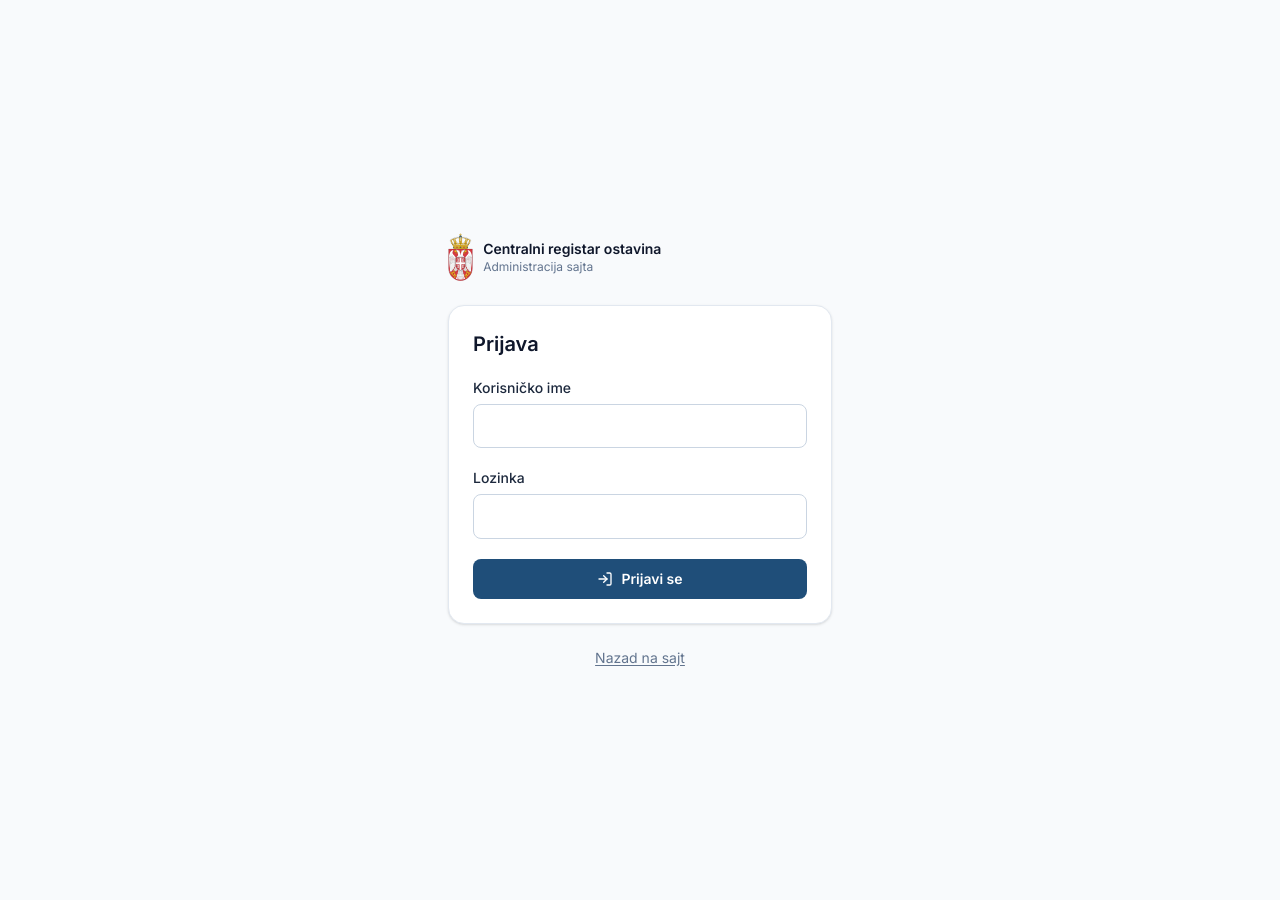
Test case: administracija › odustajanje od brisanja ne briše upit
In the field labelled "Korisničko ime": (640, 426) left=473, top=404, right=807, bottom=448, type "admin"
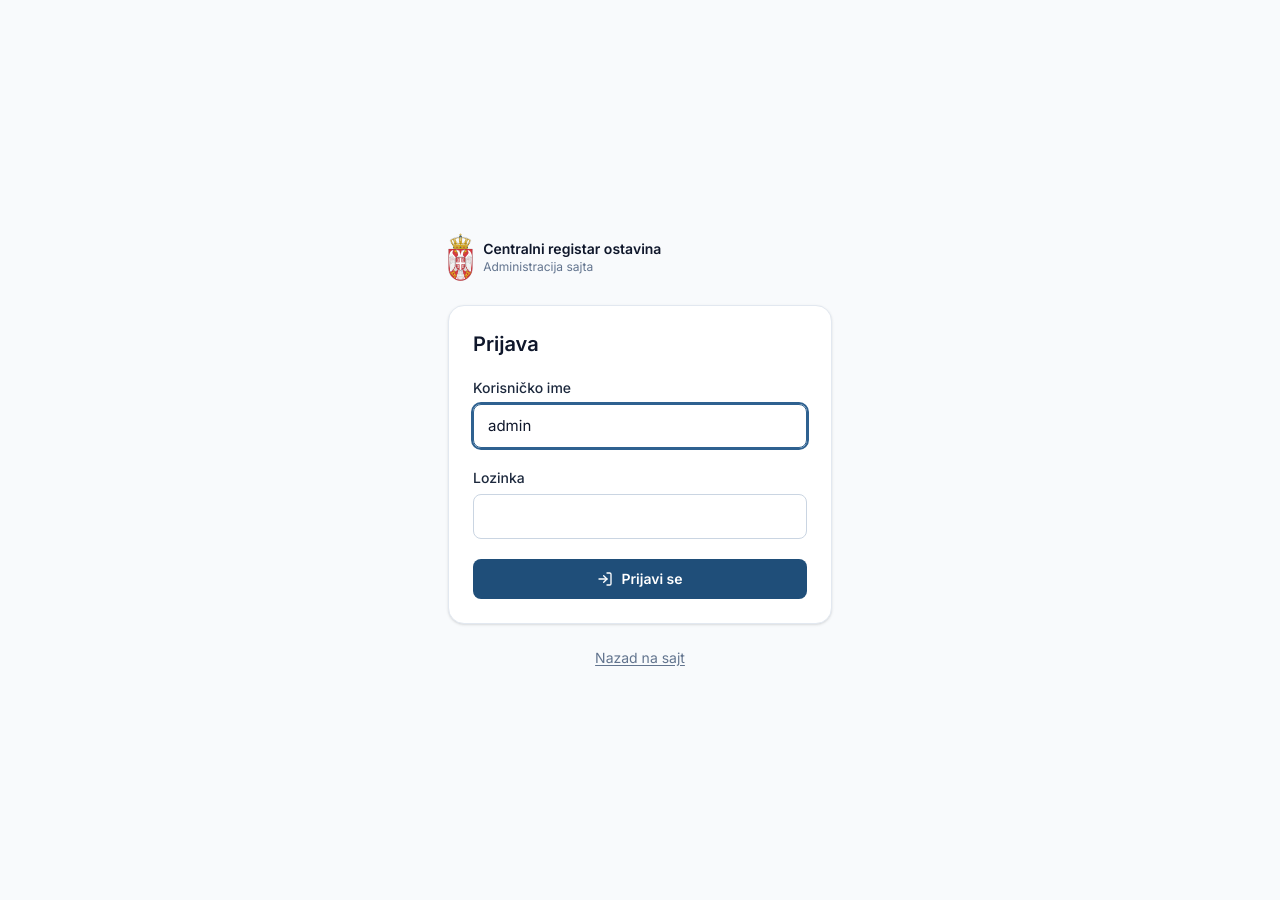
In the password field labelled "Lozinka": (640, 516) left=473, top=494, right=807, bottom=538, type "tacna-lozinka"
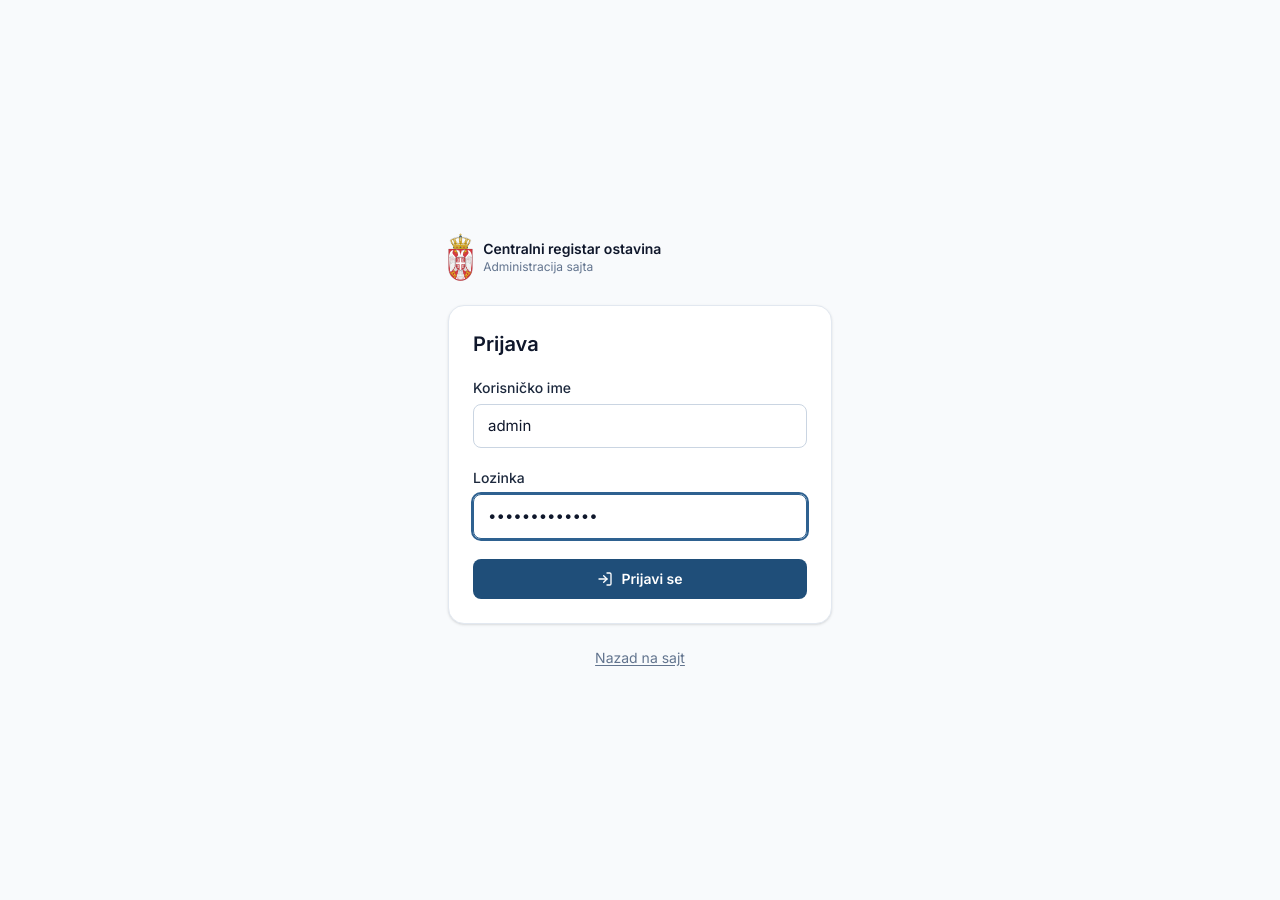
Click the button "Prijavi se": (640, 578) left=473, top=558, right=807, bottom=598
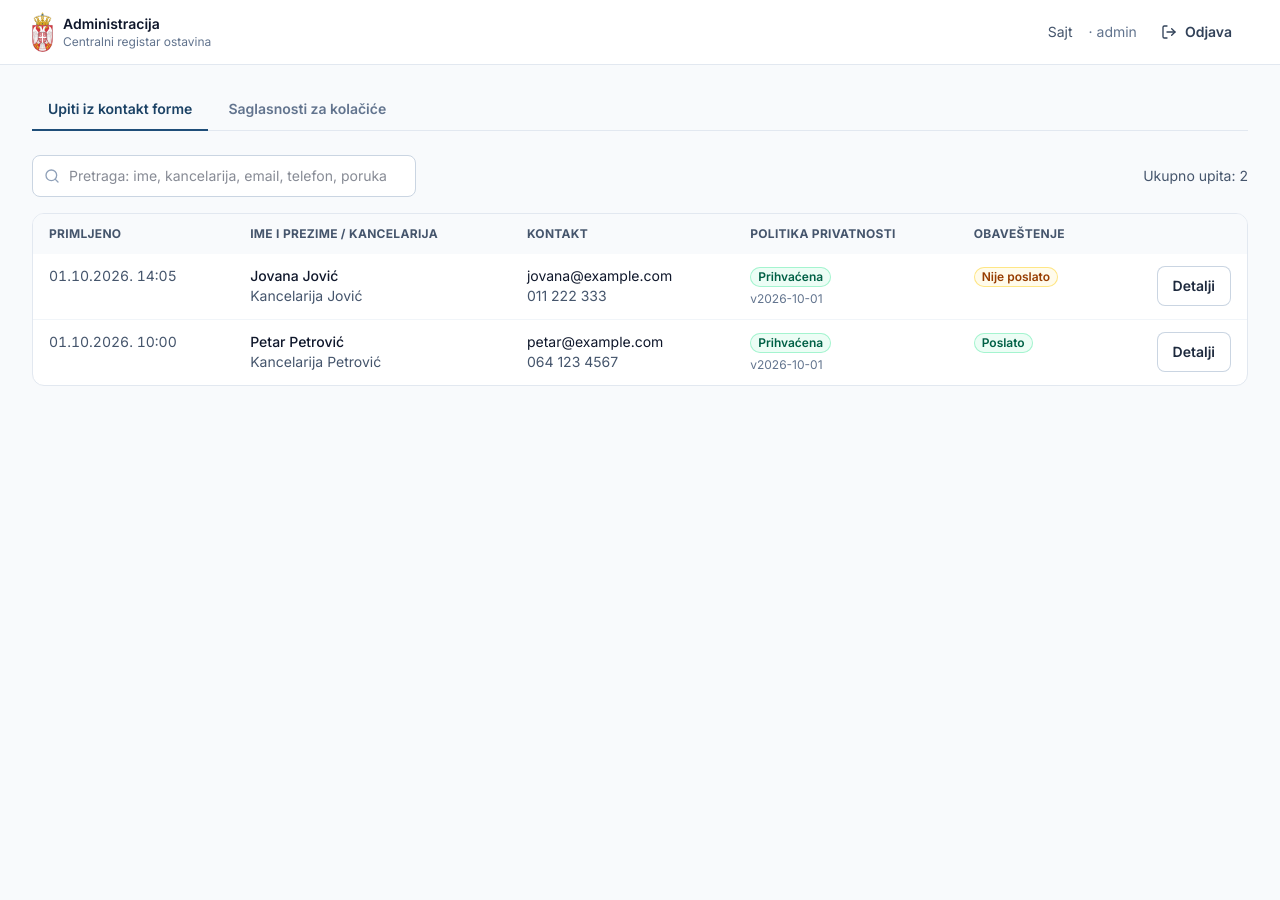
Click the button with aria-label "Detalji upita #1": (1194, 352) left=1157, top=332, right=1231, bottom=372
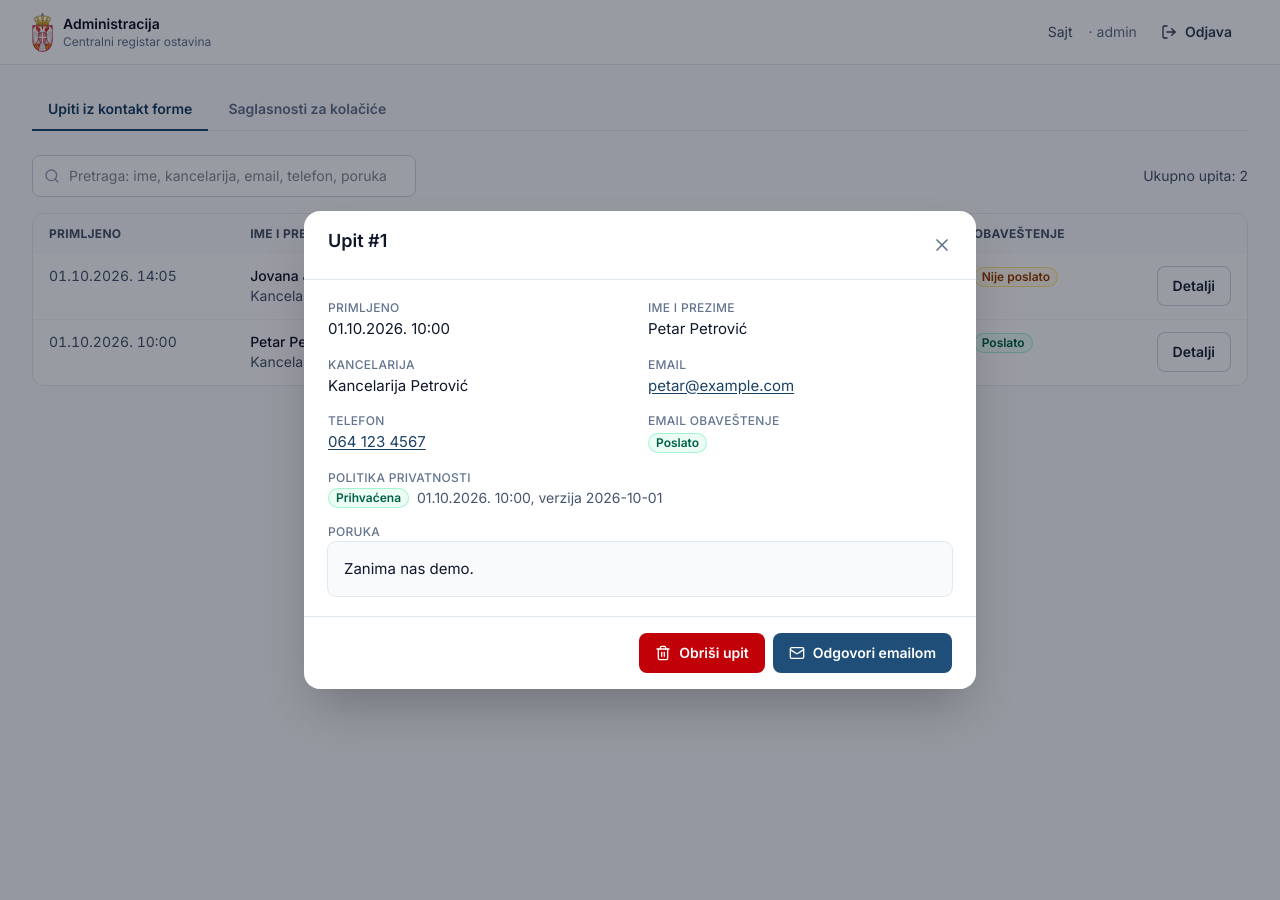
Click the button "Obriši upit": (702, 653) left=639, top=633, right=765, bottom=673
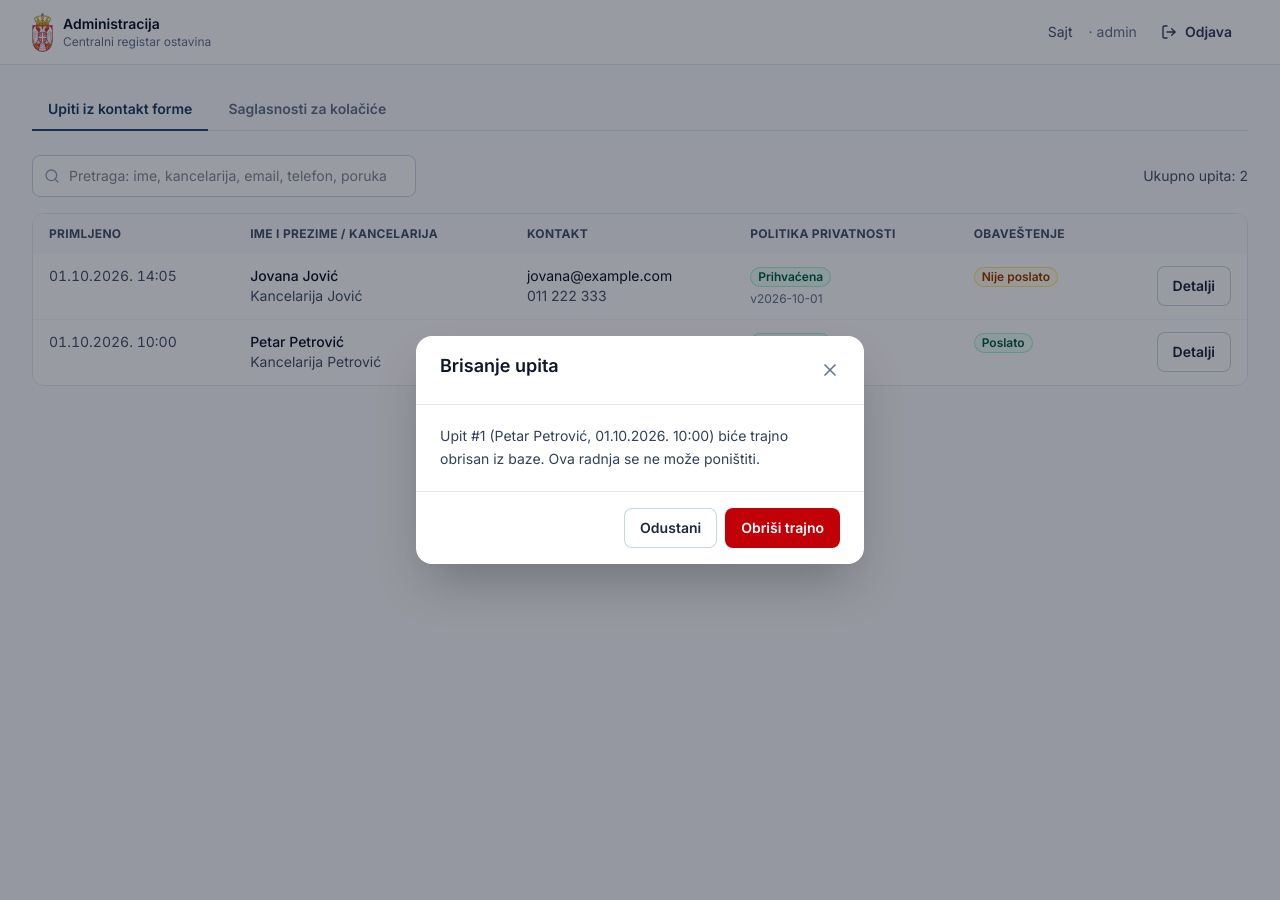
Click the button "Odustani": (671, 528) left=624, top=508, right=717, bottom=548
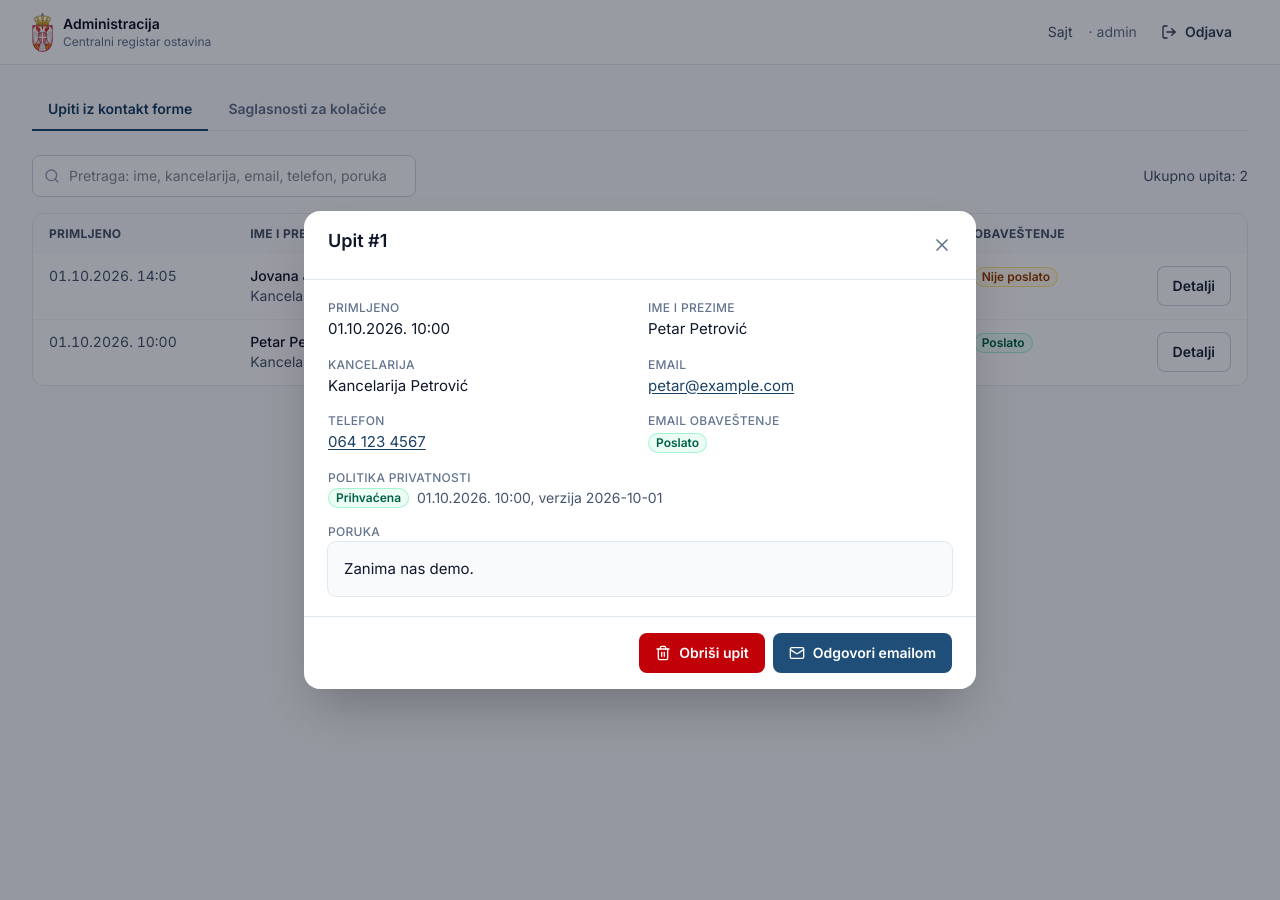
Now the heading "Brisanje upita" is gone
